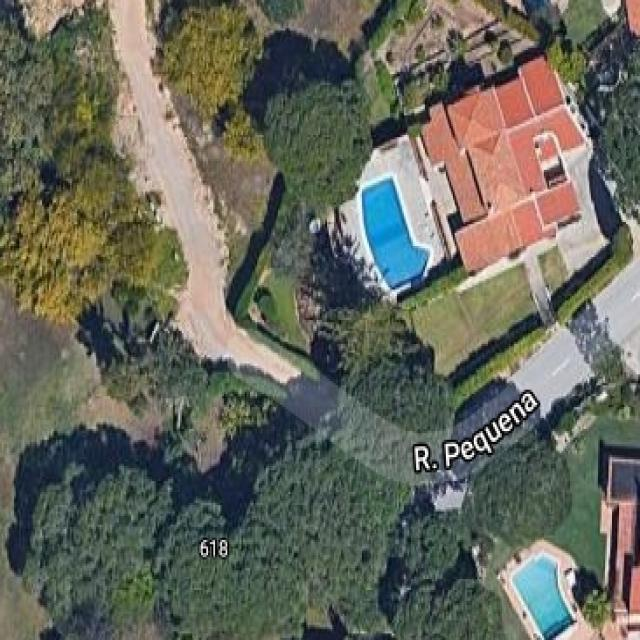pool: (324, 153, 458, 314), (495, 541, 592, 640)
